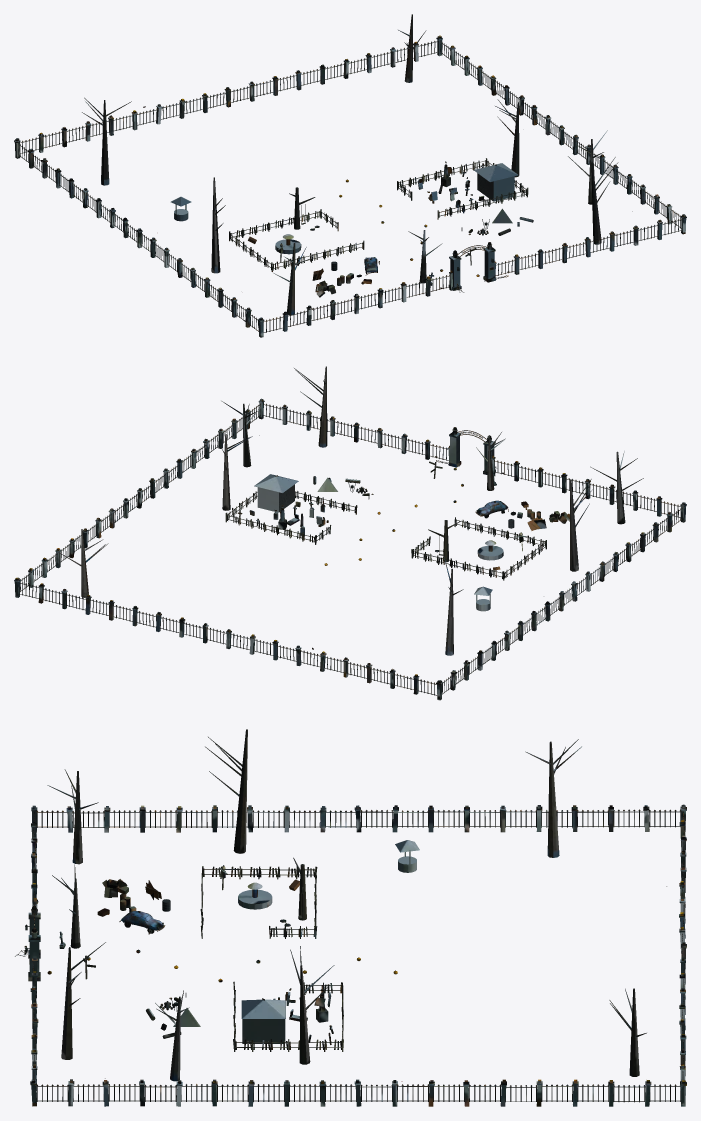
File: grounds_props.glb
The picture shows the model from 3 angles, top to bottom: view 1: azimuth 30°, elevation 25°; view 2: azimuth 150°, elevation 25°; view 3: azimuth 270°, elevation 25°; orthographic projection. The views are drawn at different scales.
Visible parts, largest first — view 1: CHUNK_grounds_props; view 2: CHUNK_grounds_props; view 3: CHUNK_grounds_props.
Boxes of the visible parts, box(x1,y1,x2,y2) form: CHUNK_grounds_props: box(14, 14, 686, 337); CHUNK_grounds_props: box(14, 366, 686, 700); CHUNK_grounds_props: box(15, 729, 686, 1106).
Size of the model in its own units: 60.76 by 12.84 by 62.25.
Materials: 1 (1 with a texture image).
